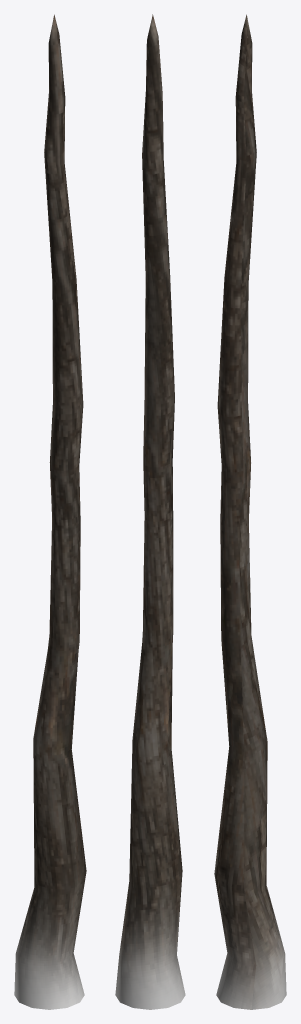
The model's file is big_tree_2.fbx.
3 views of the same model, side by side, from view 1: azimuth 90°, elevation 25°; view 2: azimuth 150°, elevation 25°; view 3: azimuth 270°, elevation 25° (orthographic).
Parts seen in each view (by area): view 1: big_tree_2; view 2: big_tree_2; view 3: big_tree_2.
Part boxes in pixels (x1,y1,x2,y2): big_tree_2: (14, 14, 86, 1009); big_tree_2: (115, 14, 185, 1009); big_tree_2: (214, 14, 286, 1009).
Size of the model in its own units: 135 by 139 by 2077.
